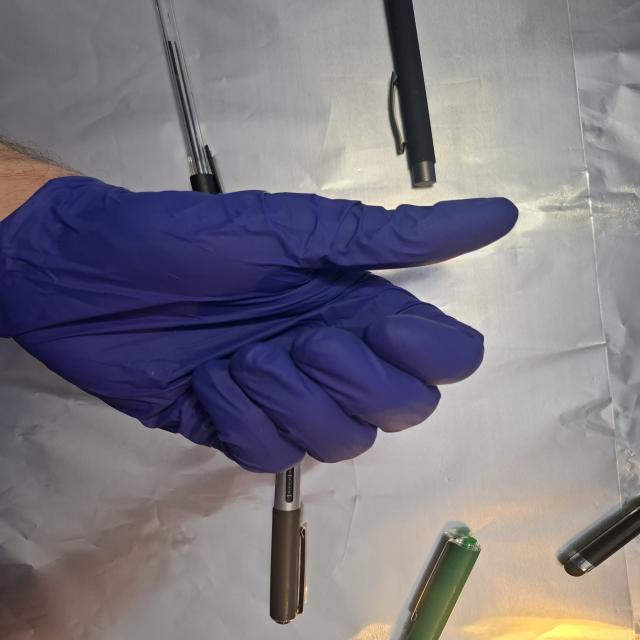glove_on: (2, 170, 524, 480)
